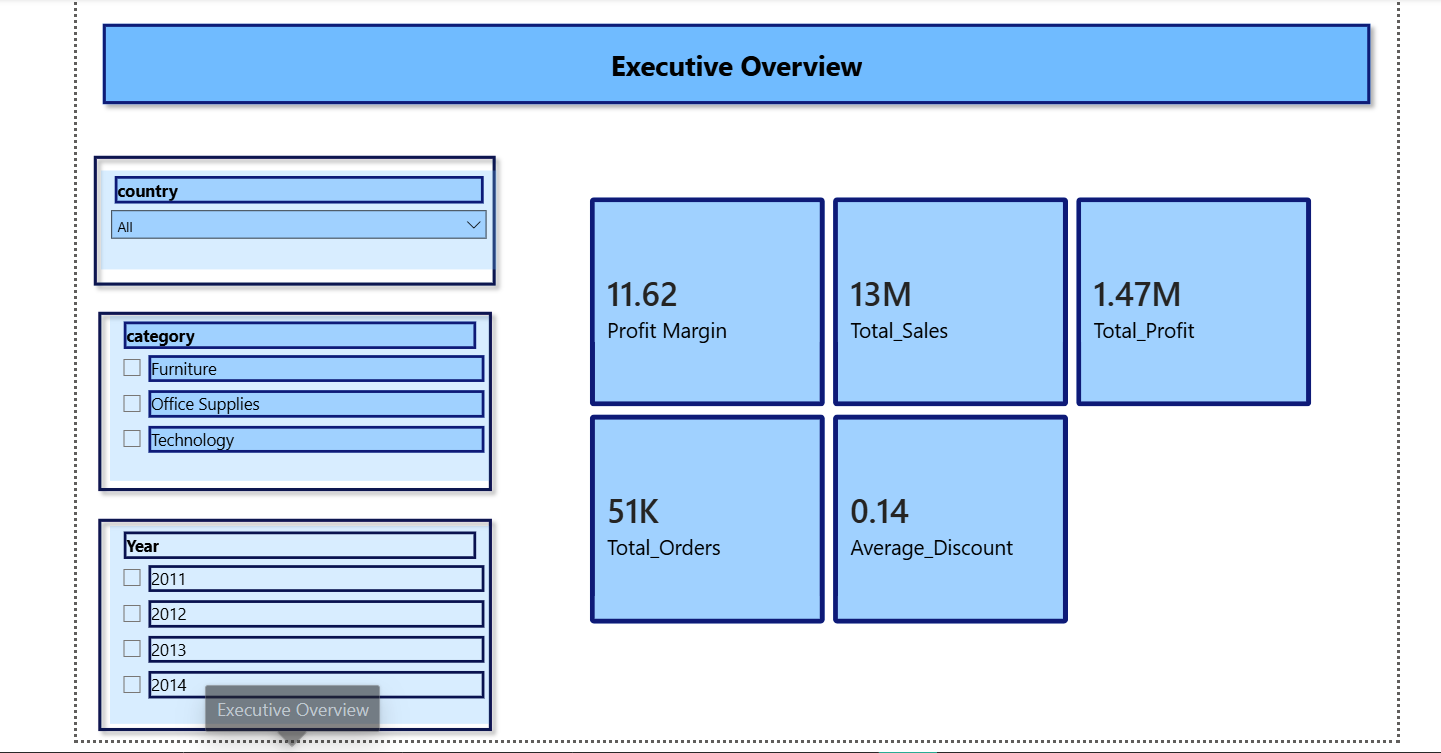

The dashboard page shown, as its layout file describes it:
{"tool":"powerbi","page":{"name":"Executive Overview","canvas":[1280,720],"ordinal":0},"visuals":[{"type":"cardVisual","fields":{"Data":["superstore.Profit Margin","superstore.Total_Sales","superstore.Total_Profit","superstore.Total_Orders","superstore.Average_Discount"]},"box":[480,176,736,448],"z":0},{"type":"shape","box":[12,496,400,224],"z":1000},{"type":"shape","box":[8,144,408,144],"z":1250},{"type":"shape","box":[12,296,400,192],"z":1500},{"type":"shape","box":[16,16,1248,96],"z":2000},{"type":"slicer","fields":{"Values":["superstore.country"]},"box":[24,168,384,96],"z":3000},{"type":"slicer","fields":{"Values":["superstore.category"]},"box":[32,308,368,160],"z":4000},{"type":"slicer","fields":{"Values":["superstore.year"]},"box":[32,512,368,192],"z":5000}]}

Visuals, with their boxes on the page's 1280x720 design canvas (x1, y1, x2, y2). These are canvas units, not pixel positions in the 1441x753 screenshot, which may show the page scaled, cropped or inside an application window:
cardVisual - superstore.Profit Margin x superstore.Total_Sales: [480,176,1216,624]
shape: [12,496,412,720]
shape: [8,144,416,288]
shape: [12,296,412,488]
shape: [16,16,1264,112]
slicer - superstore.country: [24,168,408,264]
slicer - superstore.category: [32,308,400,468]
slicer - superstore.year: [32,512,400,704]
